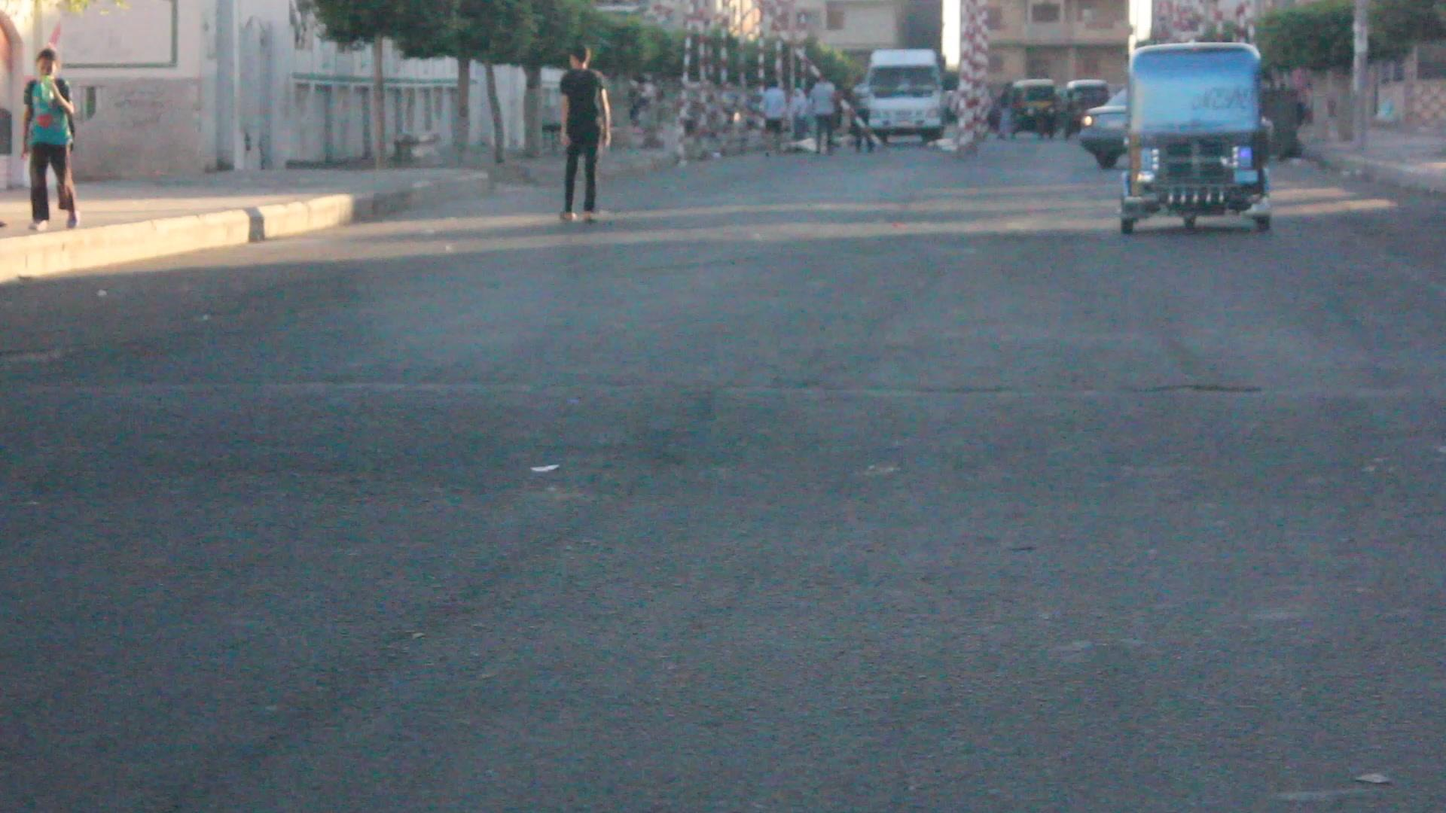Bump: (4, 384, 1446, 525)
